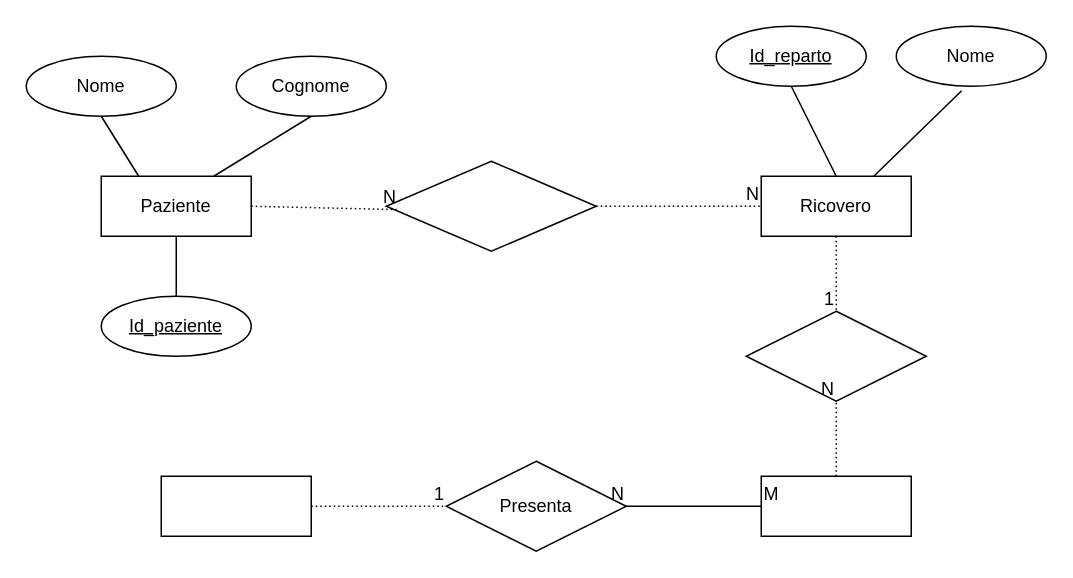
This 1073x578 diagram has some shape labels left out. The box of each missing label's shape, as (x1, y1, x2, y2) in pixels:
Avviene: (745, 310, 926, 401)
Effettua: (385, 160, 596, 251)
Medico: (160, 475, 311, 536)
Reparto: (760, 475, 911, 536)
